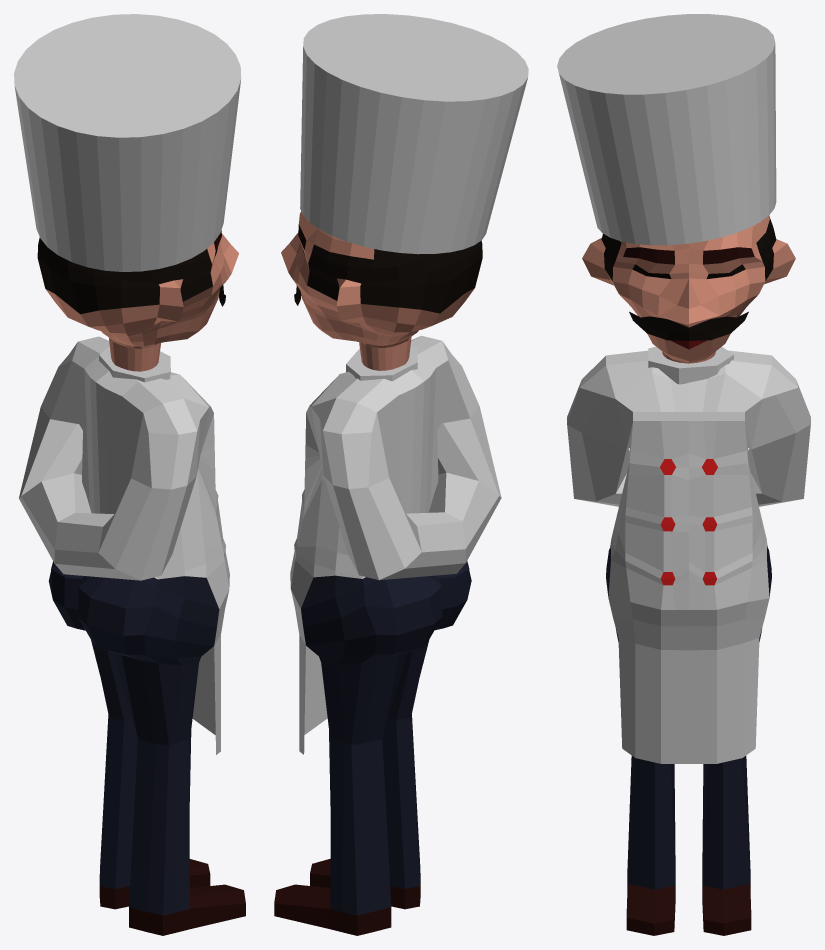
The model's file is chef.obj.
3 renders of one model, left to right at view 1: azimuth 30°, elevation 25°; view 2: azimuth 150°, elevation 25°; view 3: azimuth 270°, elevation 25°, orthographic. The views are drawn at different scales.
Visible parts, largest first — view 1: Cube_Cube.001, Cylinder_Cylinder.001, Sphere, Cylinder.001_Cylinder.002; view 2: Cube_Cube.001, Cylinder_Cylinder.001, Sphere, Cylinder.001_Cylinder.002; view 3: Cube_Cube.001, Cylinder_Cylinder.001, Sphere, Plane_Plane.001, Cylinder.001_Cylinder.002.
Part boxes in pixels (x1,y1,x2,y2): Cube_Cube.001: (19, 336, 245, 935); Cylinder_Cylinder.001: (14, 14, 241, 271); Sphere: (37, 230, 238, 371); Cylinder.001_Cylinder.002: (99, 346, 170, 382); Cube_Cube.001: (274, 335, 501, 935); Cylinder_Cylinder.001: (300, 14, 528, 254); Sphere: (281, 211, 482, 370); Cylinder.001_Cylinder.002: (346, 345, 417, 381); Cube_Cube.001: (567, 350, 810, 935); Cylinder_Cylinder.001: (557, 14, 776, 245); Sphere: (582, 215, 795, 363); Plane_Plane.001: (629, 311, 748, 340); Cylinder.001_Cylinder.002: (648, 346, 733, 384).
Size of the model in its own units: 4.48 by 16.66 by 4.54.
